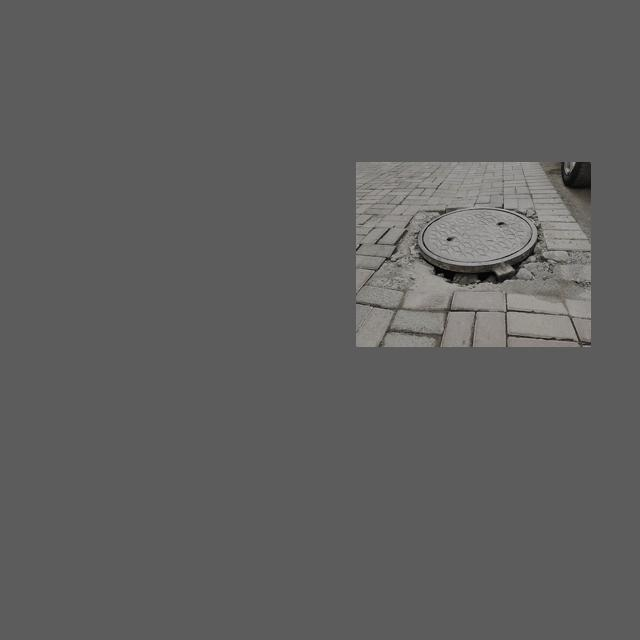circle: (373, 202, 560, 303)
